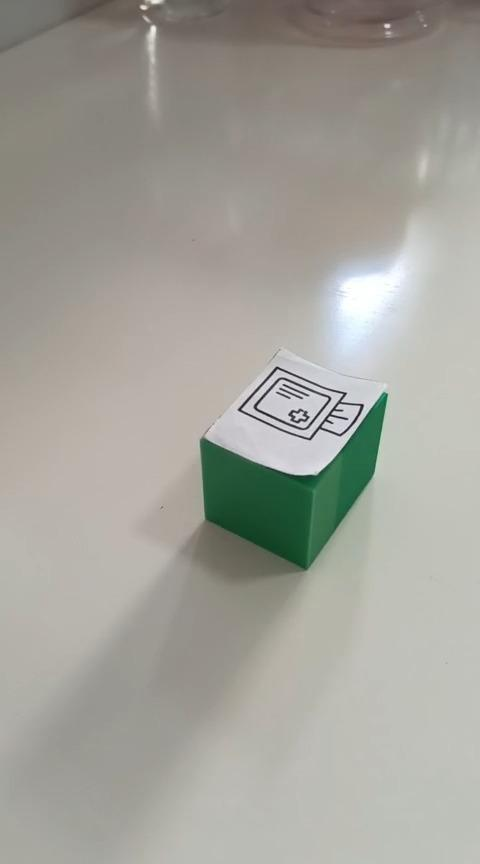Gauze: (198, 345, 388, 570)
